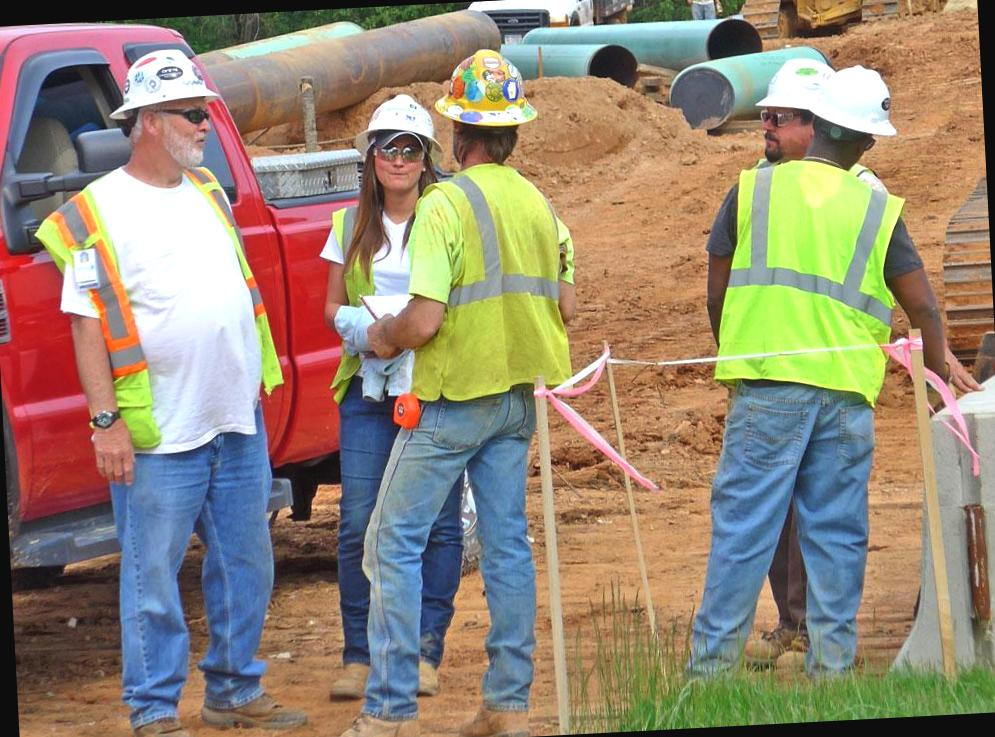helmet: (428, 46, 542, 142), (110, 38, 226, 116), (804, 60, 898, 150)
person: (32, 39, 297, 737), (682, 52, 936, 682), (352, 38, 585, 717)
